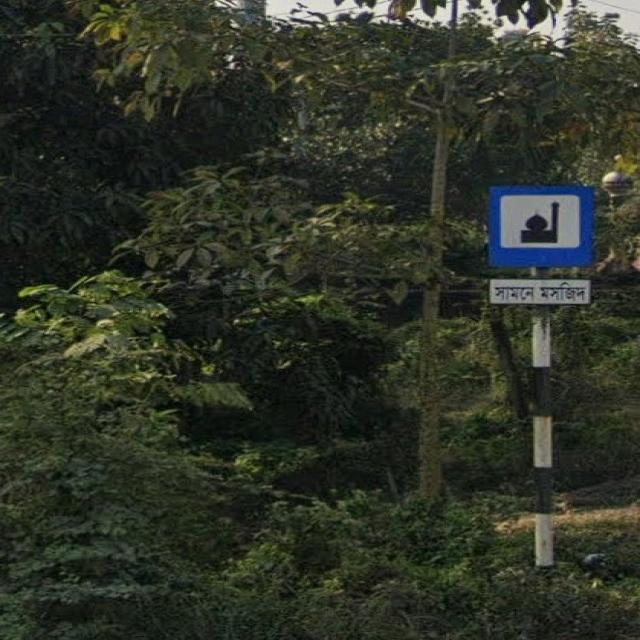Mosque in front: (484, 182, 597, 317)
